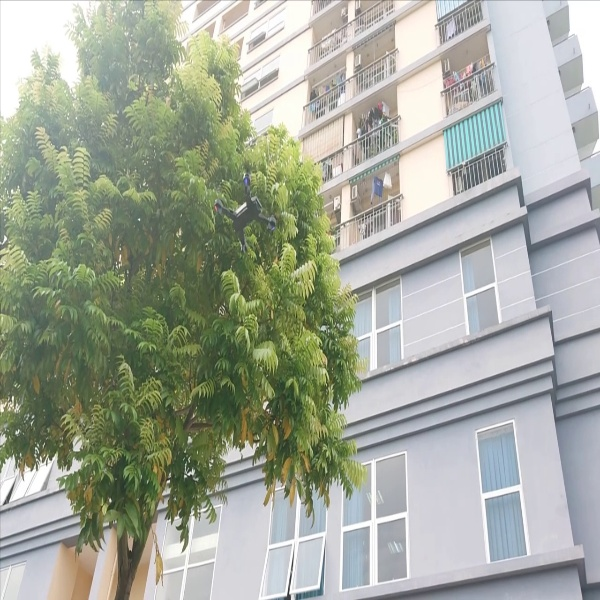drone: (208, 161, 284, 257)
